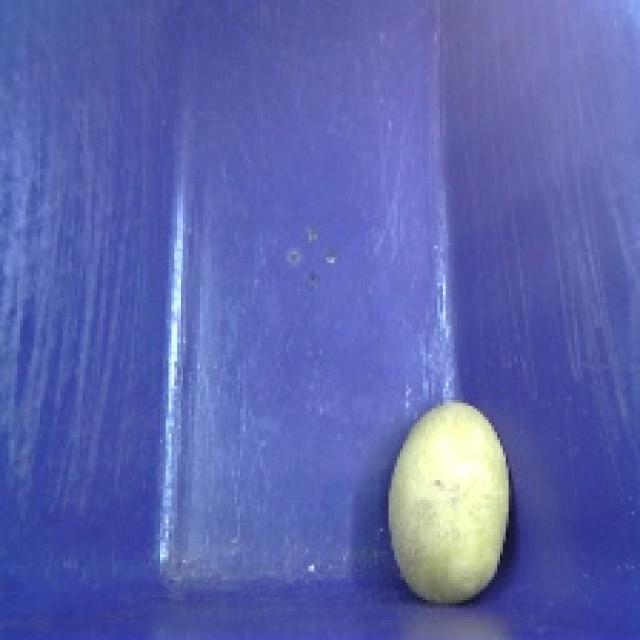potato: (377, 391, 520, 605)
